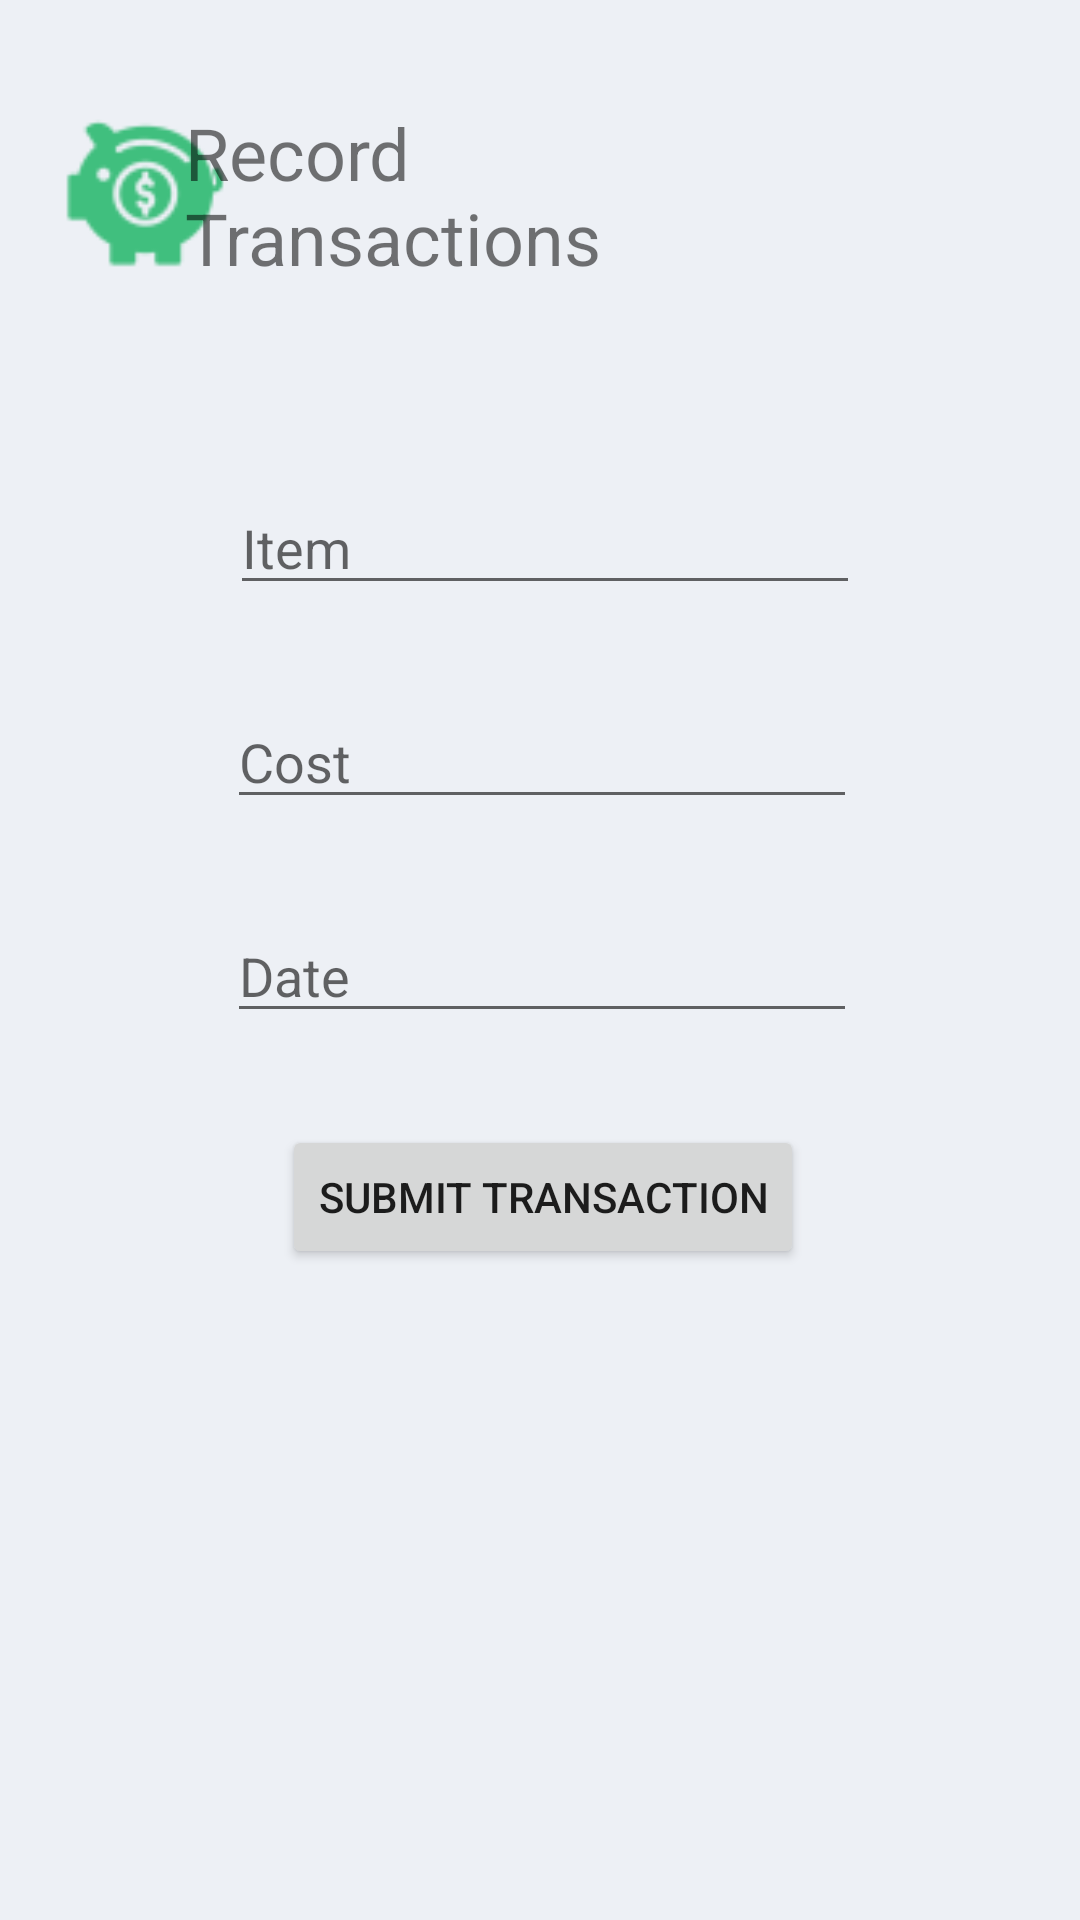

Icon click points for this 1080×1920 phone screenshot, format (x=x, y=y):
piggybank: (x=147, y=194)
